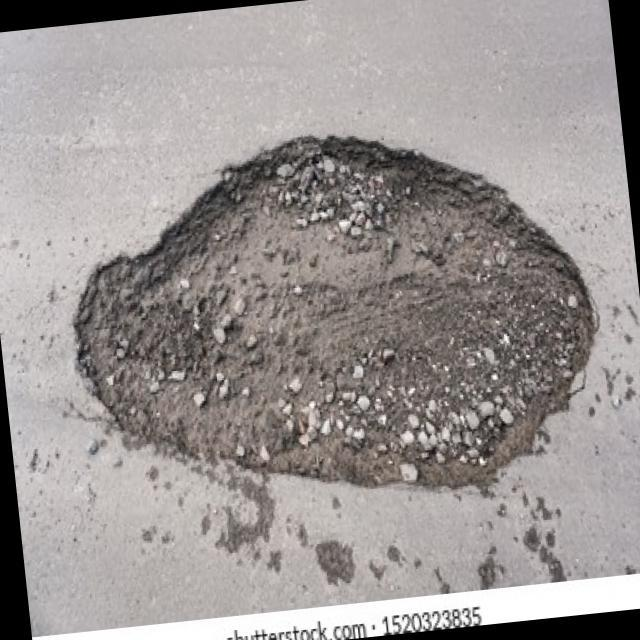Pothole: (56, 110, 612, 529)
